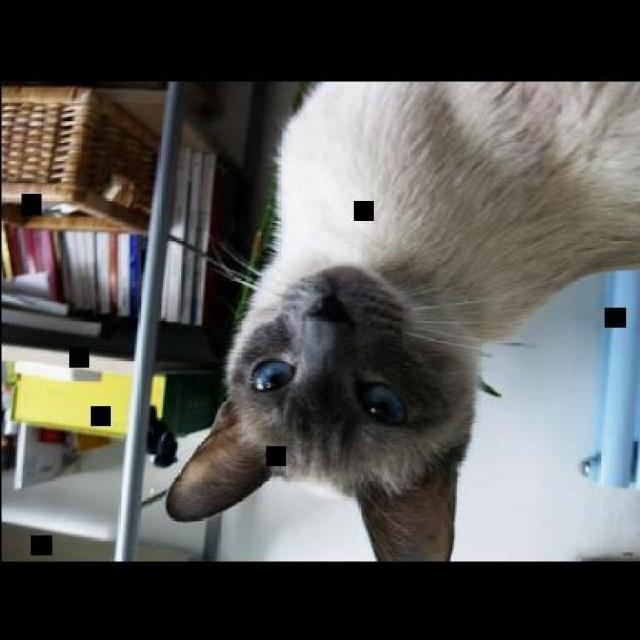unauthorized: (163, 78, 639, 560)
